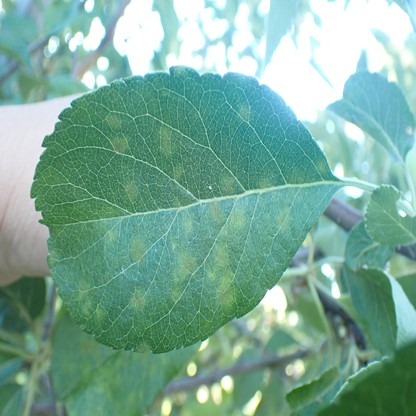scab: (63, 339, 166, 416), (173, 251, 196, 282), (216, 274, 234, 305), (156, 128, 176, 155), (129, 235, 147, 261), (207, 200, 226, 224), (278, 208, 292, 234), (132, 287, 147, 311), (230, 209, 246, 230), (214, 245, 228, 269), (125, 180, 139, 202), (112, 137, 129, 153), (238, 104, 252, 122), (180, 216, 194, 234), (173, 164, 183, 187), (107, 115, 121, 131), (220, 178, 233, 195), (77, 280, 89, 295), (316, 158, 327, 174), (81, 298, 92, 314), (97, 302, 106, 321), (257, 177, 271, 189), (171, 287, 182, 301), (106, 231, 118, 242), (205, 272, 215, 283)
